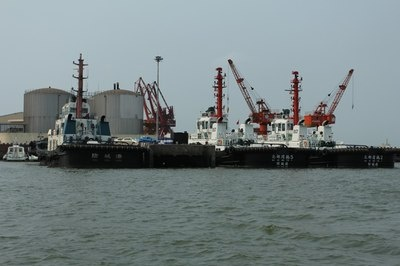otherboat: (27, 53, 145, 164), (195, 68, 309, 171), (286, 73, 400, 168)
